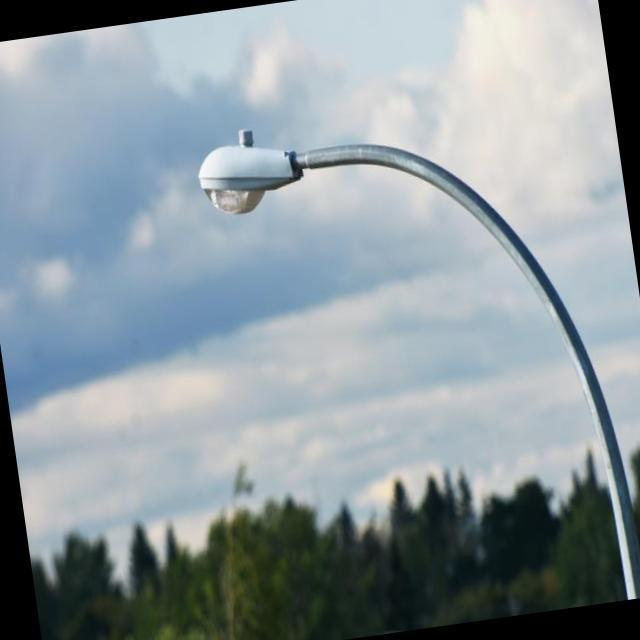off: (108, 96, 402, 262)
